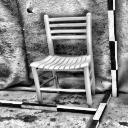chair_success: (24, 12, 100, 110)
